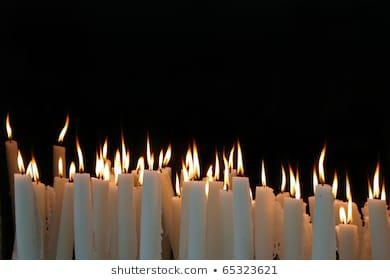fire: (56, 113, 74, 179), (183, 141, 200, 182), (367, 163, 385, 199), (96, 137, 111, 179), (115, 134, 129, 178), (285, 167, 301, 198), (26, 152, 39, 181), (3, 113, 14, 138), (337, 203, 349, 224)
